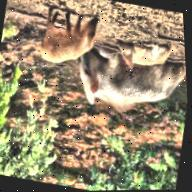boar: (68, 37, 189, 128), (33, 0, 111, 77), (111, 33, 176, 72)
